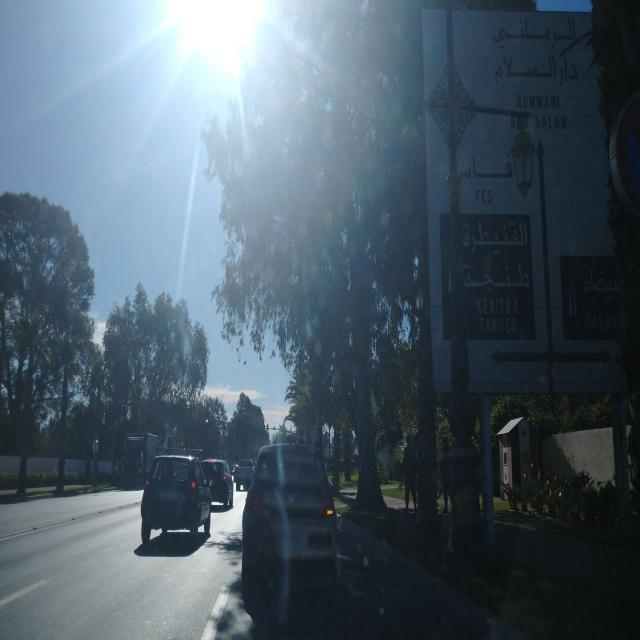car: (241, 441, 338, 602), (141, 450, 212, 544), (202, 458, 234, 510), (235, 458, 255, 490)
